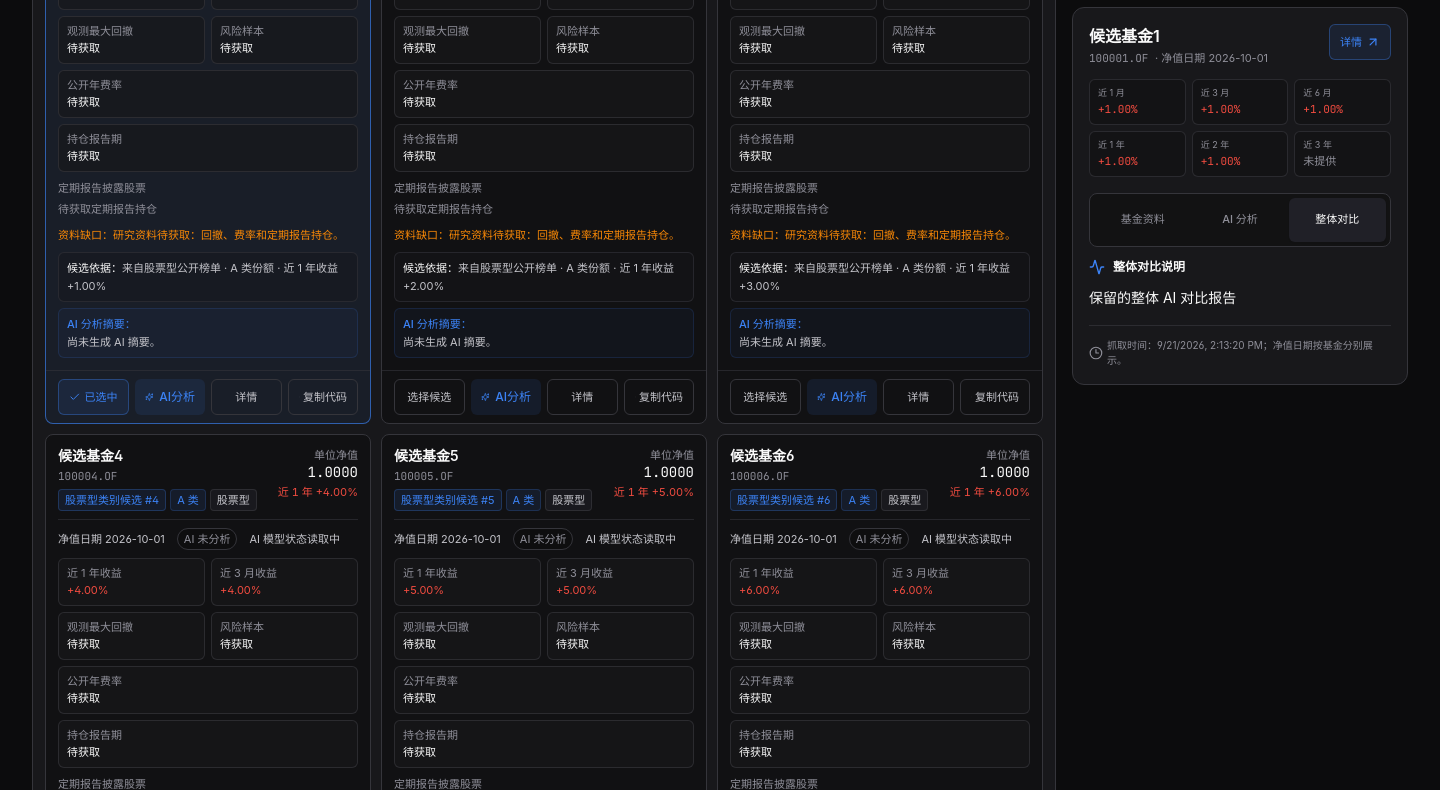
Scenario: AI fund screener Top 10 and on-demand ranking search › marks an in-progress single-fund analysis cancelled when a new candidate run aborts it
The image size is (1440, 790).
(page scrolled)
Click the 1st button "AI分析" at (170, 396), box [134,378,205,414]
(page scrolled)
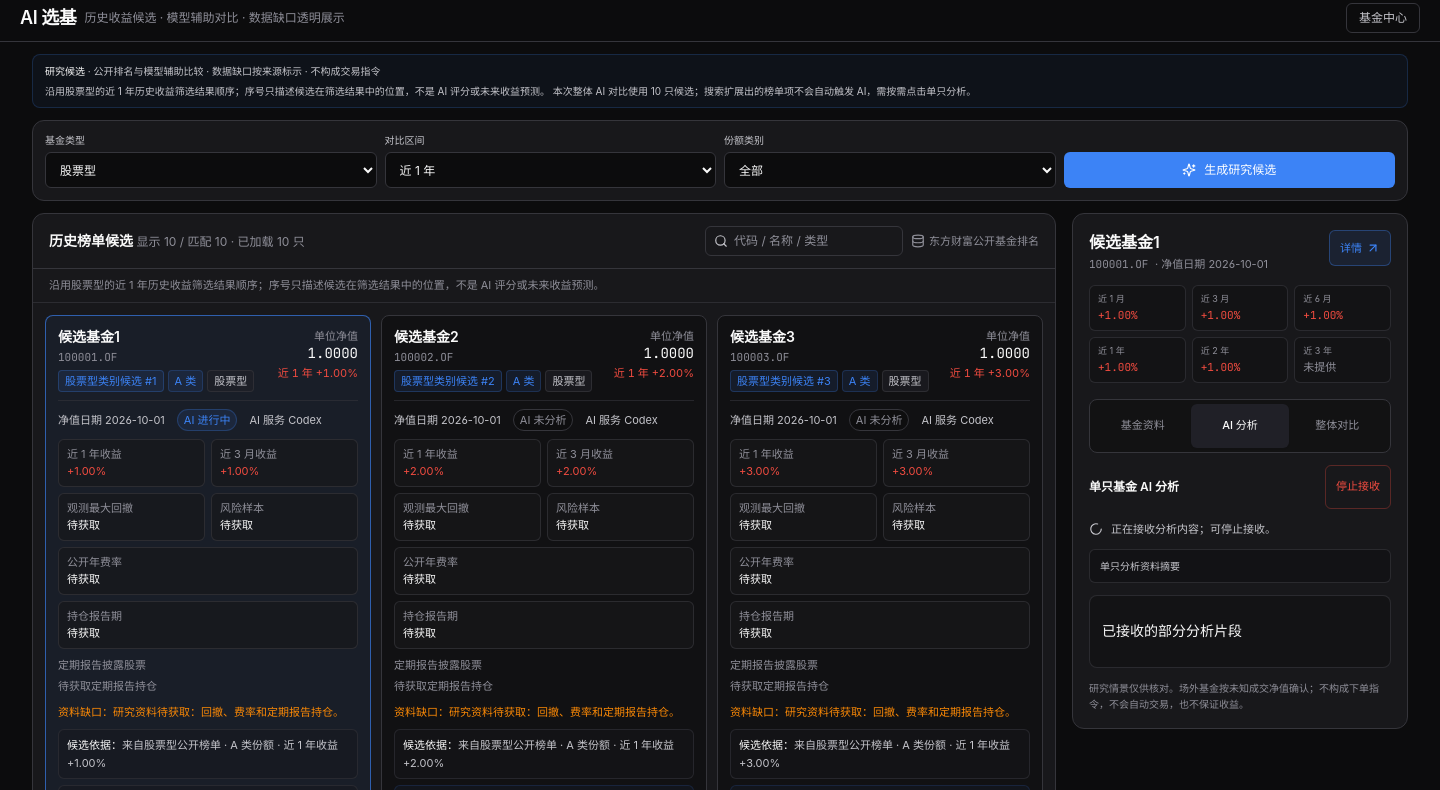
Click the button "生成研究候选" at (1229, 170), box [1064,152,1395,188]
(page scrolled)
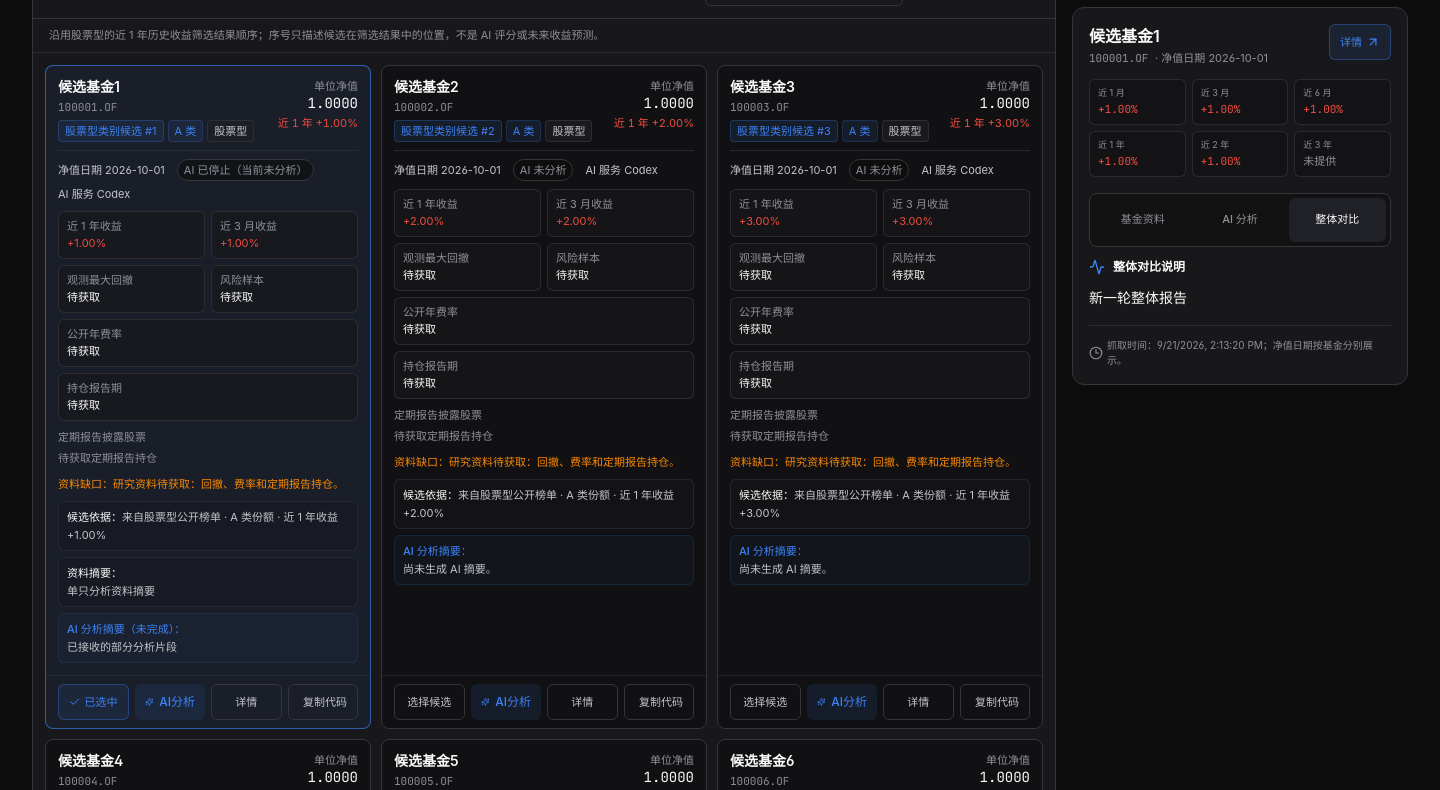
Expected: the element named "候选基金1候选基金" shows "已接收的部分分析片段", [67,640,177,654]
Expected: the element named "候选基金1候选基金" shows "AI 已停止（当前未分析）", [45,64,371,728]
Expected: the element named "候选基金1候选基金" shows "AI分析", [134,684,205,720]
